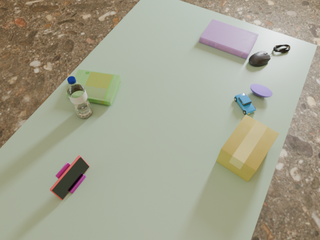book: (199, 19, 259, 59), (66, 70, 121, 105)
bottle: (67, 76, 92, 118)
box: (216, 115, 279, 182)
mouse: (249, 51, 270, 67), (251, 84, 272, 97)
phone: (50, 155, 89, 200)
toy_car: (234, 93, 256, 115)
